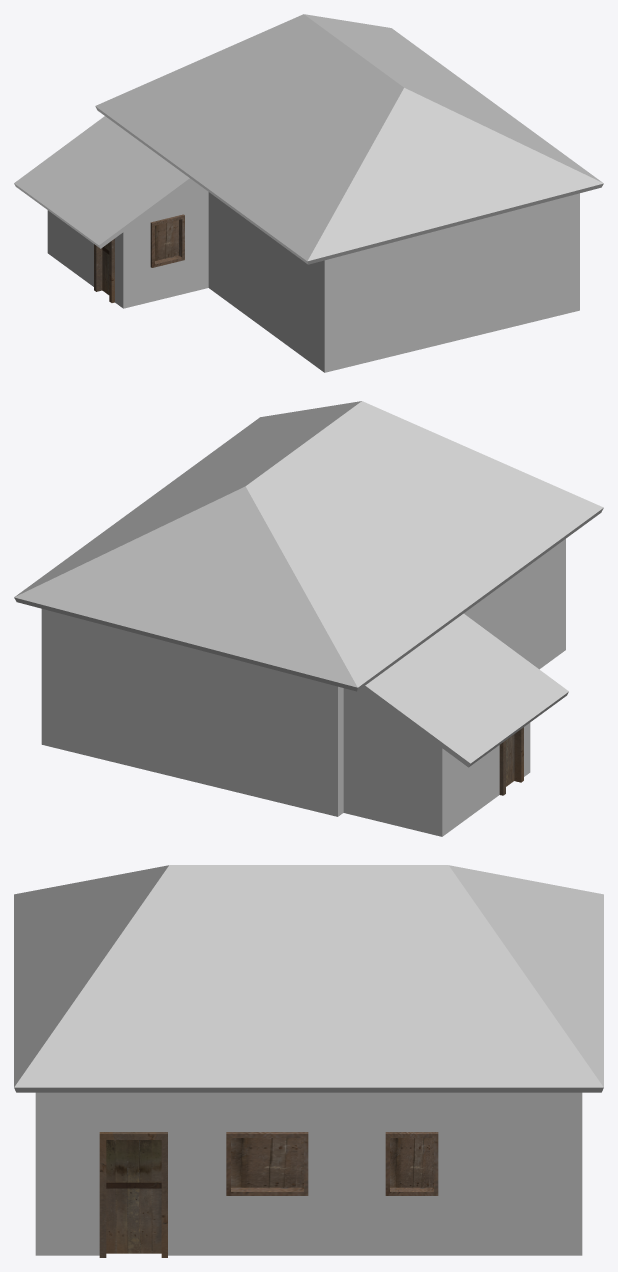
Rendered from 07_casaLOD0.fbx.
3 views of the same model, one above another, from view 1: azimuth 30°, elevation 25°; view 2: azimuth 150°, elevation 25°; view 3: azimuth 270°, elevation 25° (orthographic). The views are drawn at different scales.
Parts seen in each view (by area): view 1: telhado_LOD0, 07_casa_LOD0; view 2: telhado_LOD0, 07_casa_LOD0; view 3: telhado_LOD0, 07_casa_LOD0.
Boxes of the visible parts, x1=… form: telhado_LOD0: x1=14, y1=14, x2=603, y2=264; 07_casa_LOD0: x1=47, y1=180, x2=579, y2=372; telhado_LOD0: x1=14, y1=401, x2=603, y2=767; 07_casa_LOD0: x1=41, y1=539, x2=565, y2=836; telhado_LOD0: x1=14, y1=865, x2=603, y2=1092; 07_casa_LOD0: x1=35, y1=1092, x2=582, y2=1257.
Size of the model in its own units: 906 by 491 by 864.
